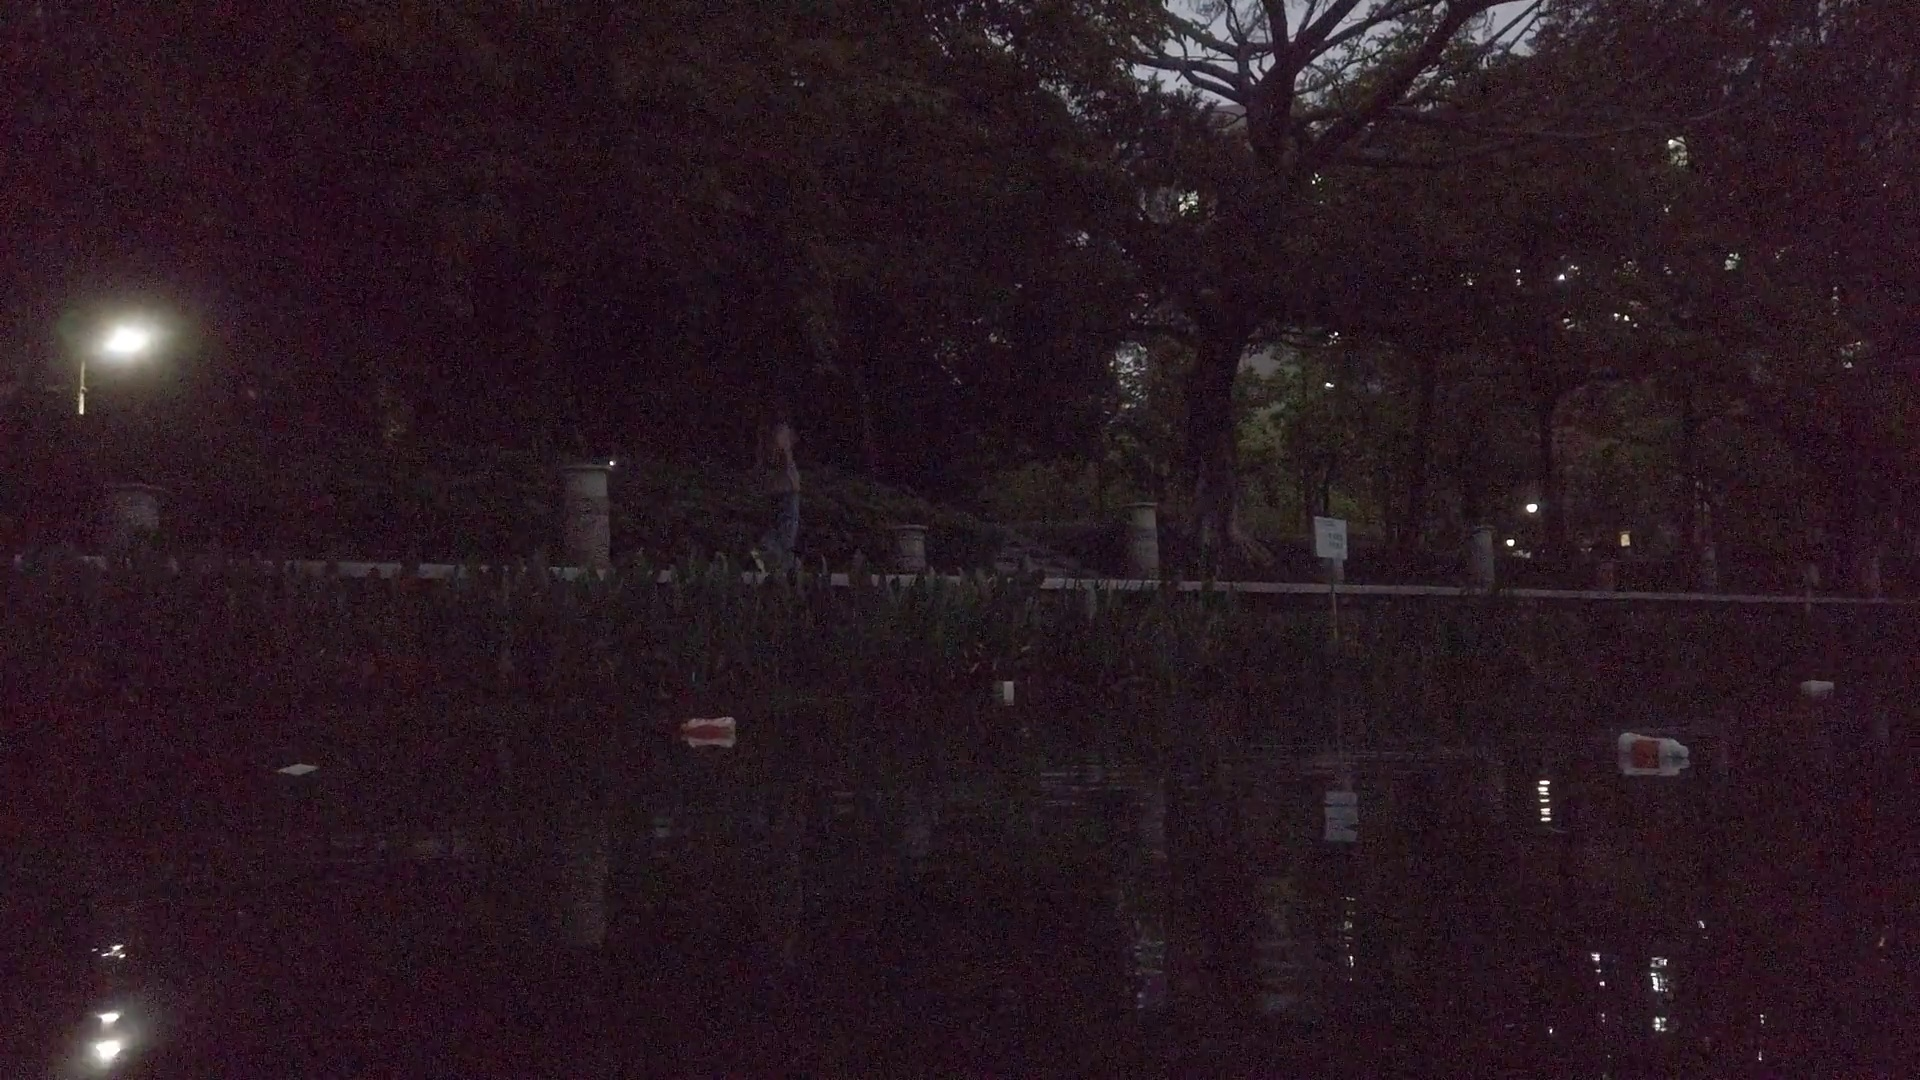bottle: (1615, 731, 1691, 760), (676, 715, 737, 740)
carton: (1803, 678, 1836, 692), (992, 678, 1013, 698)
paper: (280, 761, 318, 777)
